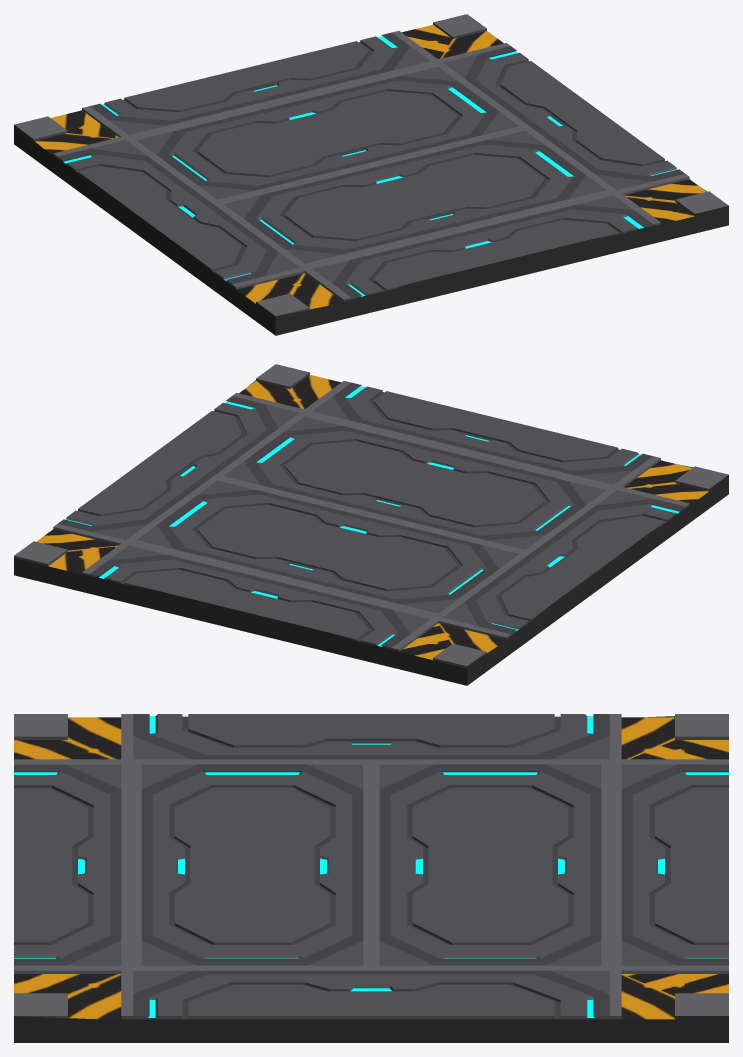
Rendered from SM_Bld_Floor_02.fbx.
3 renders of one model, top to bottom at view 1: azimuth 30°, elevation 25°; view 2: azimuth 150°, elevation 25°; view 3: azimuth 270°, elevation 25°, orthographic. The views are drawn at different scales.
Visible parts, largest first — view 1: SM_Bld_Floor_02_LOD0; view 2: SM_Bld_Floor_02_LOD0; view 3: SM_Bld_Floor_02_LOD0.
Boxes of the visible parts, bbox=[...] form: SM_Bld_Floor_02_LOD0: bbox=[14, 14, 728, 335]; SM_Bld_Floor_02_LOD0: bbox=[14, 364, 728, 685]; SM_Bld_Floor_02_LOD0: bbox=[14, 714, 728, 1042].
Bounding box in the file's own units: 500 × 500 × 20.68.
1 material, 1 textured.
